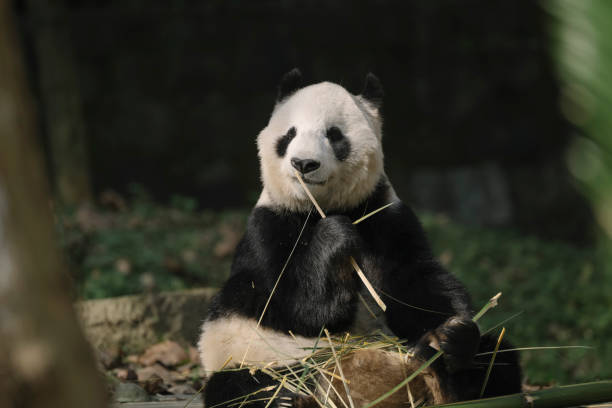panda: (244, 48, 437, 238)
